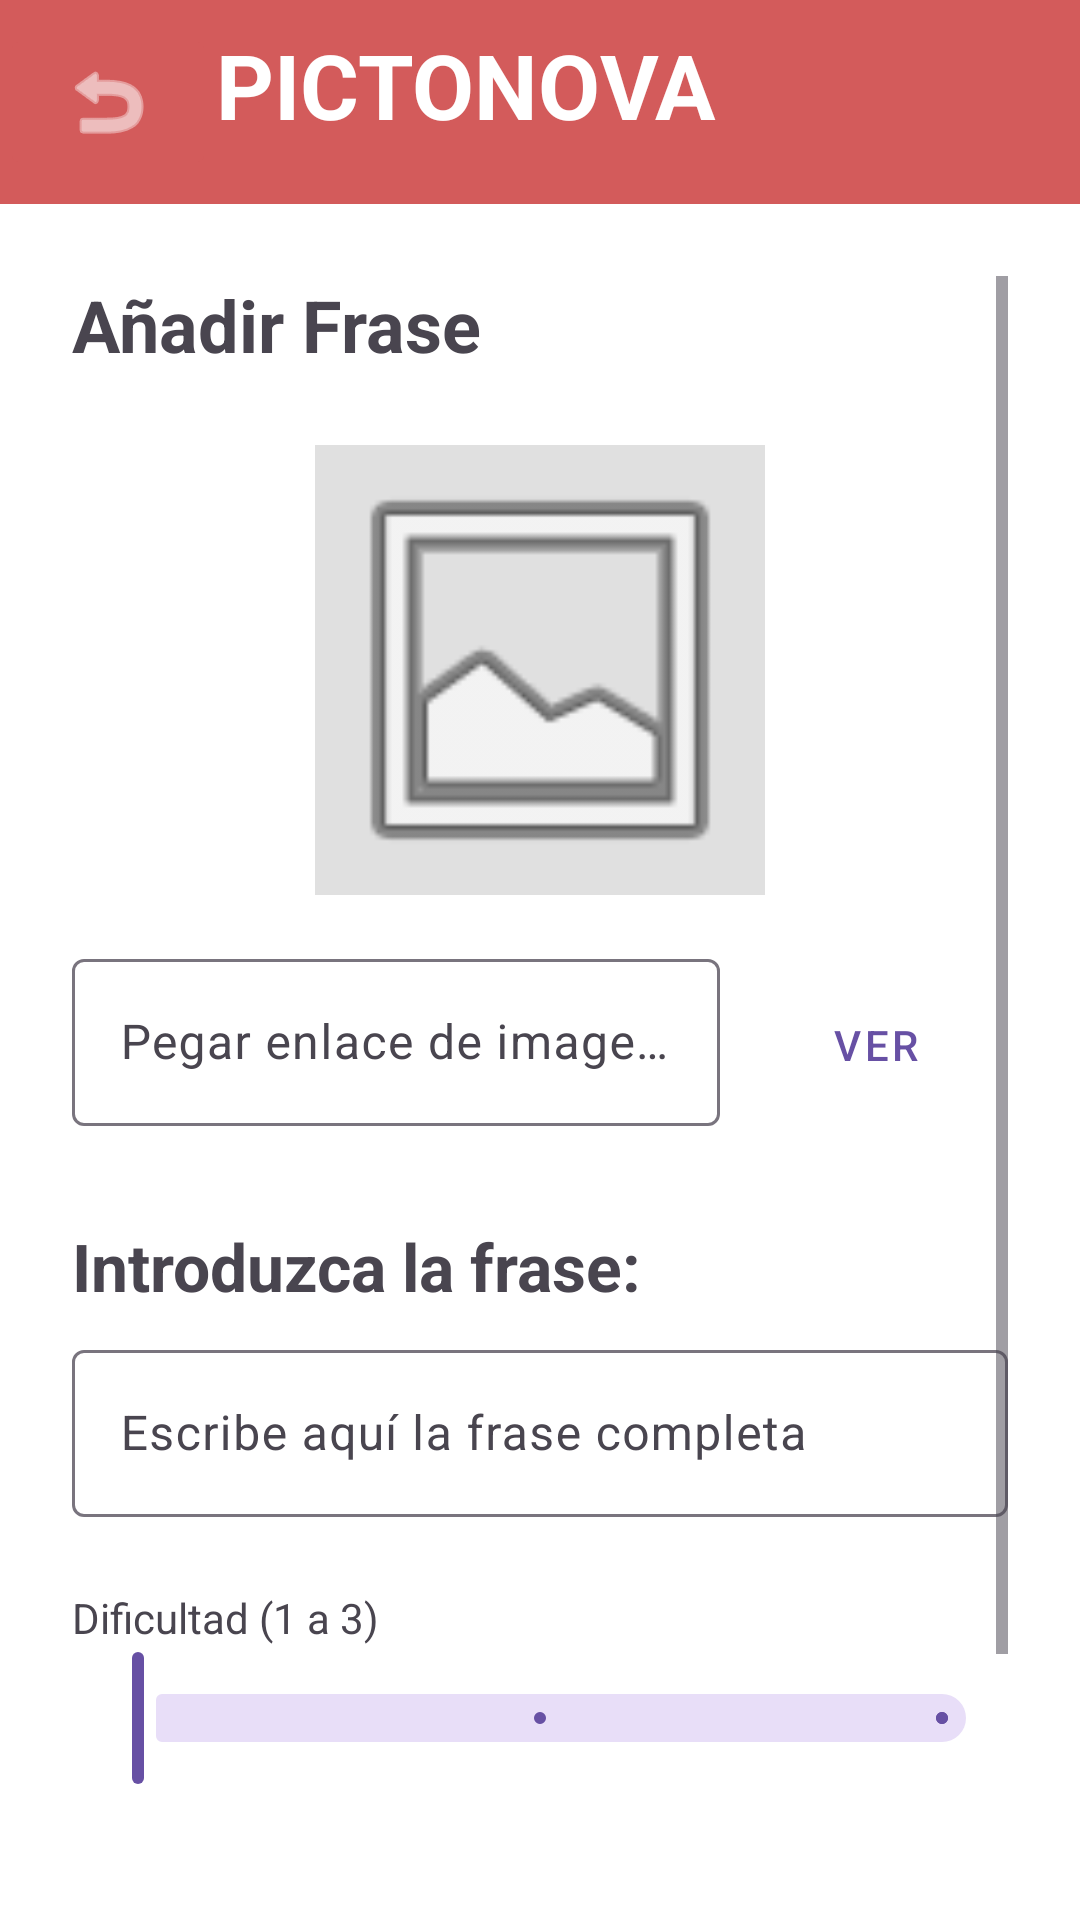

Icon click points for this 1080w x 1920h phone screenshot, format (x,y):
boton atras: (109,103)
